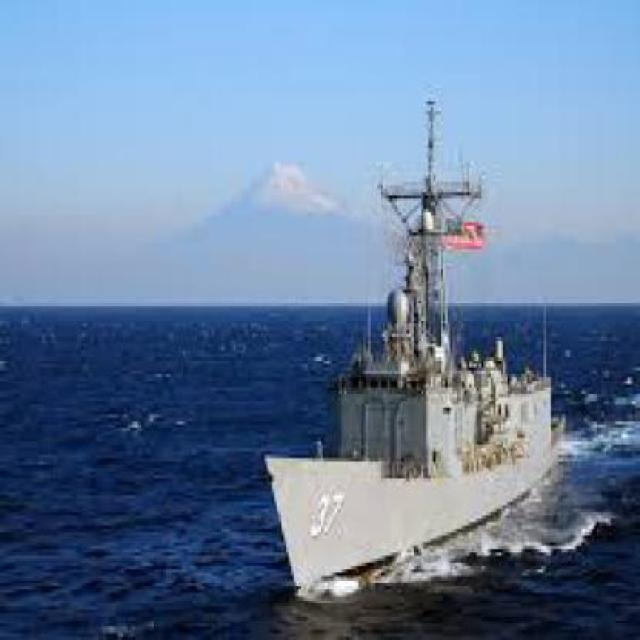warship2: (253, 72, 584, 601)
